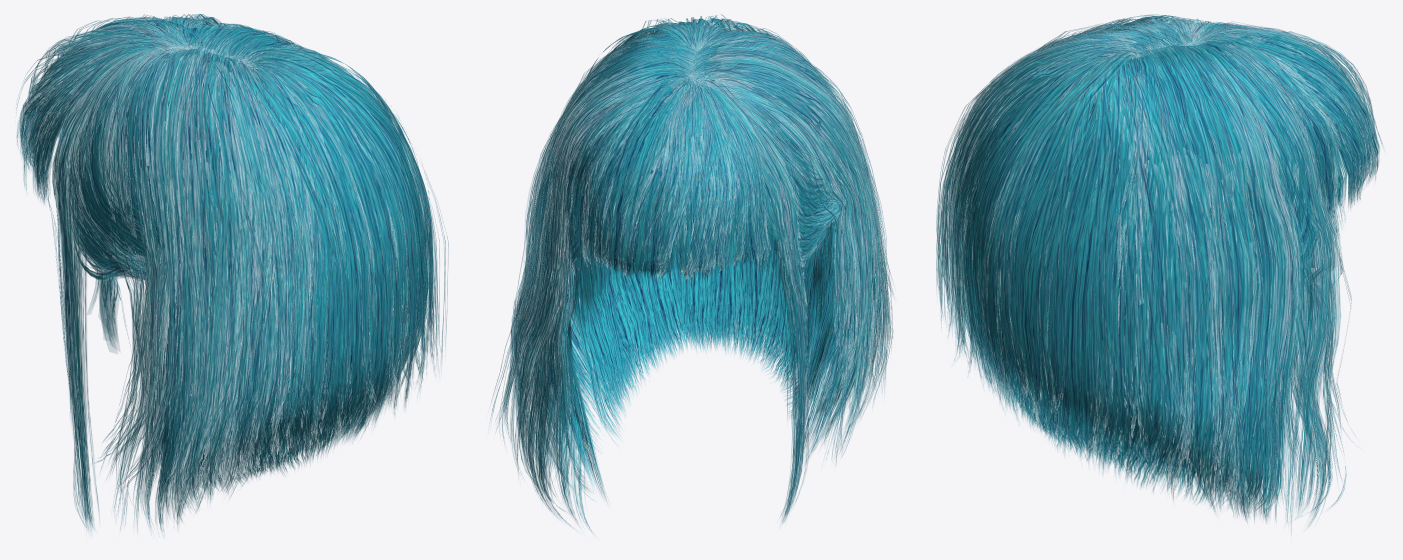
Rendered from JOI-Hair.glb.
3 renders of one model, left to right at view 1: azimuth 30°, elevation 25°; view 2: azimuth 150°, elevation 25°; view 3: azimuth 270°, elevation 25°, orthographic. The views are drawn at different scales.
Parts seen in each view (by area): view 1: JOI-Hair; view 2: JOI-Hair; view 3: JOI-Hair.
Boxes of the visible parts, bbox=[...] form: JOI-Hair: bbox=[16, 14, 448, 530]; JOI-Hair: bbox=[490, 14, 893, 531]; JOI-Hair: bbox=[936, 14, 1382, 530].
Size of the model in its own units: 0.2302 by 0.3087 by 0.2661.
1 material, 1 textured.
